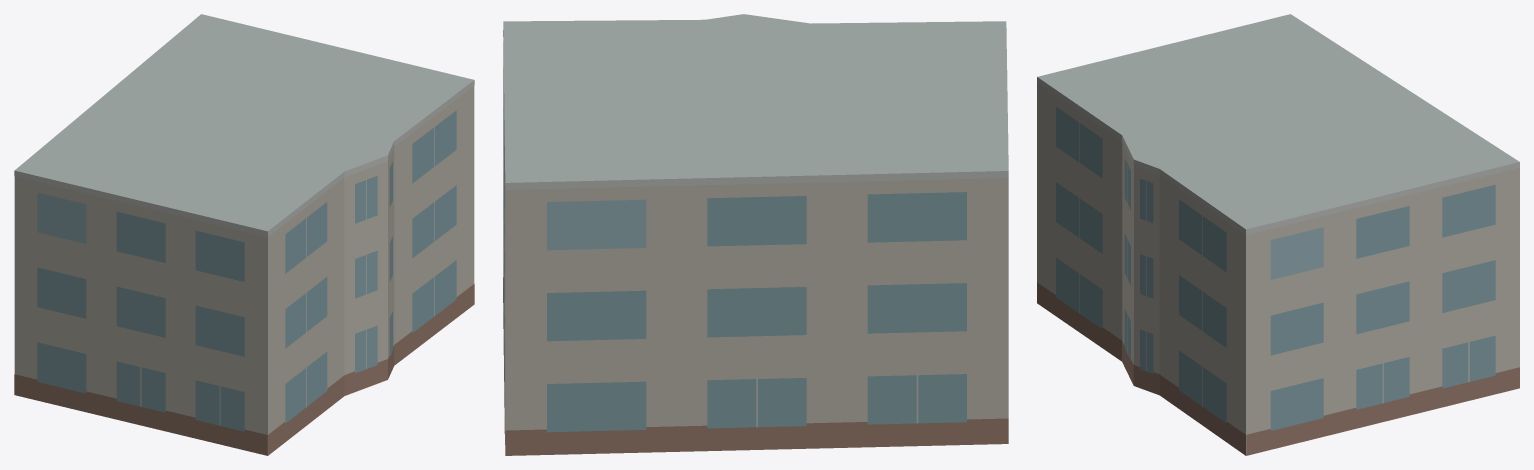
Rendered from survey-upis-32970032.glb.
3 views of the same model, side by side, from view 1: azimuth 30°, elevation 25°; view 2: azimuth 150°, elevation 25°; view 3: azimuth 270°, elevation 25° (orthographic). The views are drawn at different scales.
Visible parts, largest first — view 1: survey-upis-32970032.tmp; view 2: survey-upis-32970032.tmp; view 3: survey-upis-32970032.tmp.
Boxes of the visible parts, <box> form: survey-upis-32970032.tmp: <box>14,14,474,455</box>; survey-upis-32970032.tmp: <box>503,14,1008,455</box>; survey-upis-32970032.tmp: <box>1037,14,1519,455</box>.
Size of the model in its own units: 19.2 by 9.4 by 18.17.
